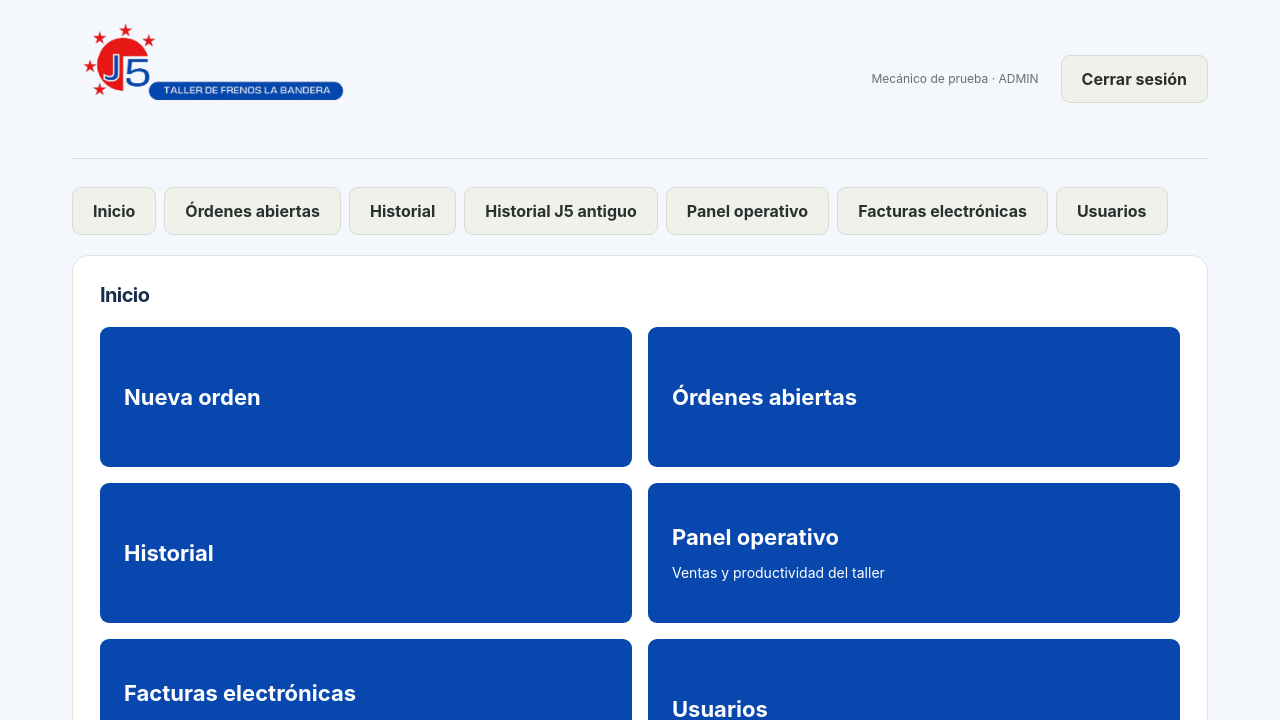
Test: ADMIN user activation is explicit and confirmed
The width and height of the screenshot is (1280, 720).
Click the 1st button "Usuarios" at (1112, 211), box [1056,187,1168,235]
(page scrolled)
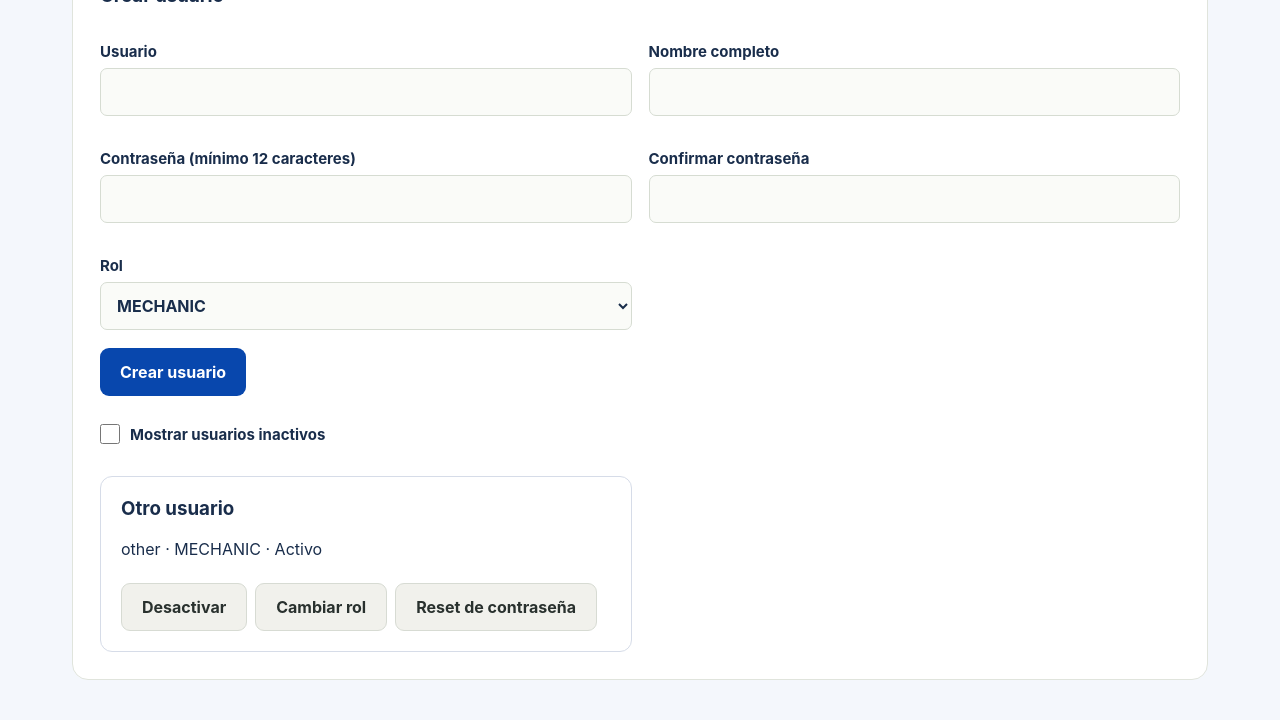
Result: the button "Desactivar" is shown
Click the button "Desactivar" at (184, 607), box [121,583,247,631]
(page scrolled)
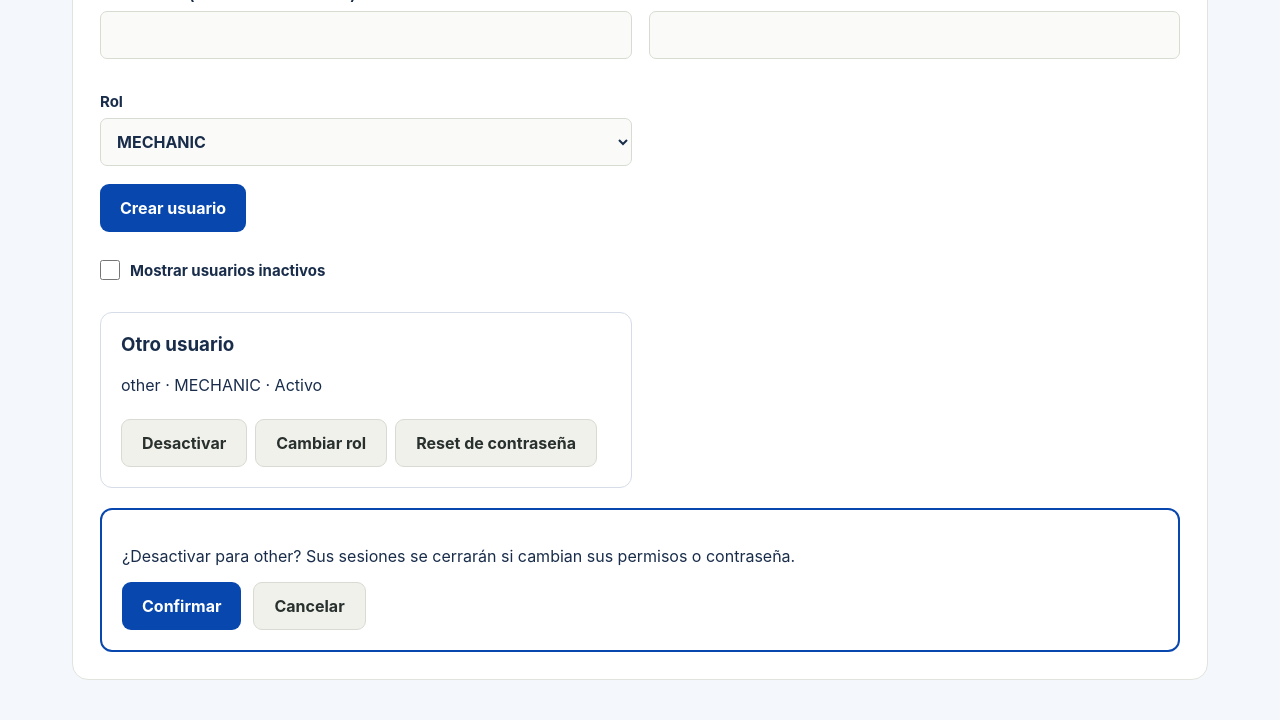
Result: the dialog shows "Desactivar para other" at [100,508,1180,652]
Result: the button "Confirmar" is shown
Click the button "Confirmar" at (182, 606), box [122,582,242,630]
(page scrolled)
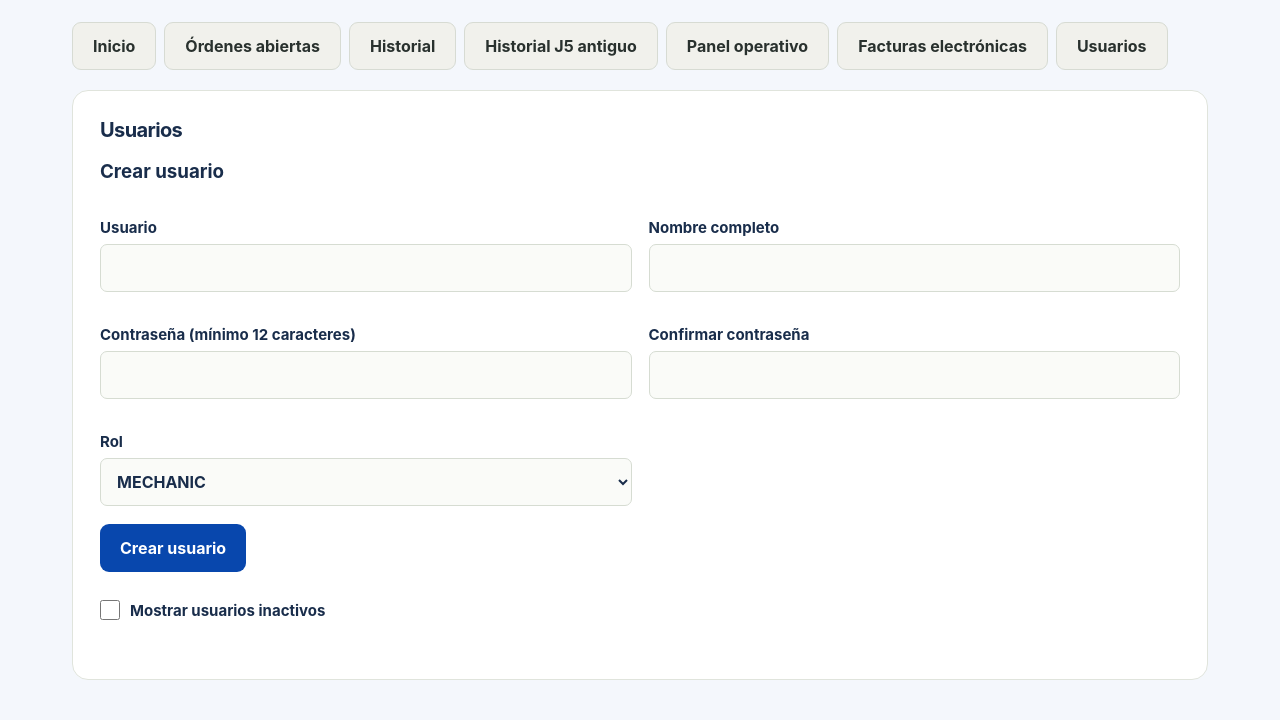
Click the checkbox labelled "Mostrar usuarios inactivos" at (110, 610), box [100,600,120,620]
(page scrolled)
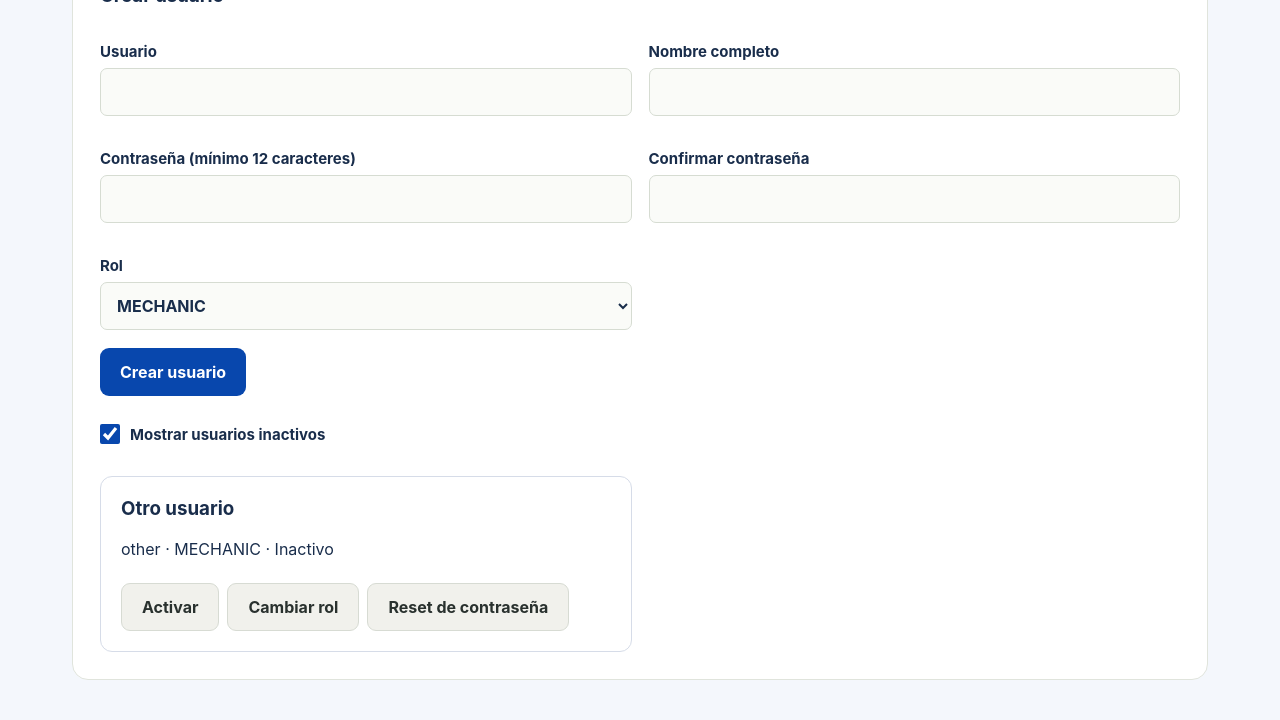
Result: the button "Activar" is shown at [121,583,219,631]
